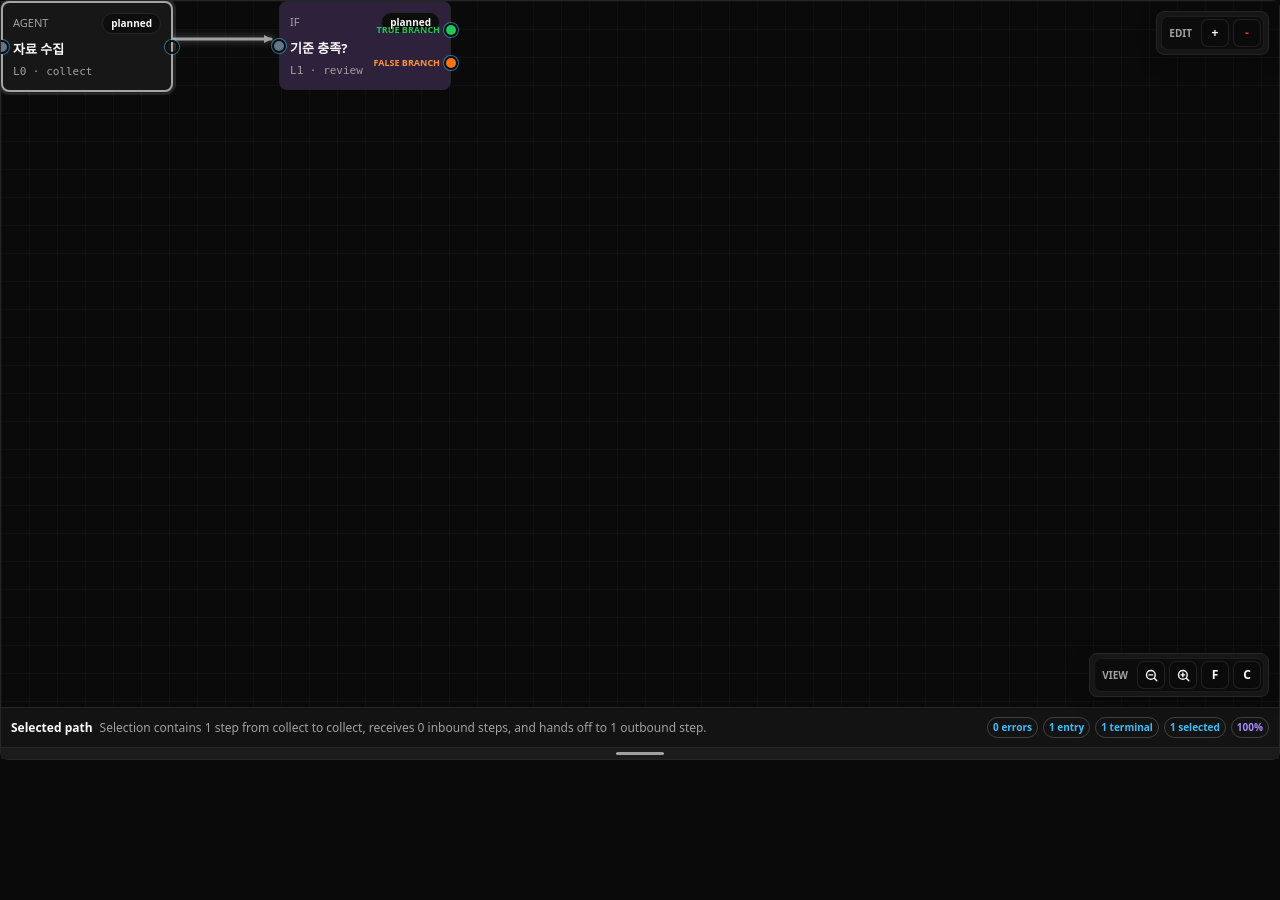
Test: WorkflowGraphEditor details popup › opens on node double-click with the selected step identity and inspector body
This screenshot has width=1280, height=900.
Click the button "if planned 기준 충족? L1 · review".
click(365, 46)  # box [279,1,451,90]
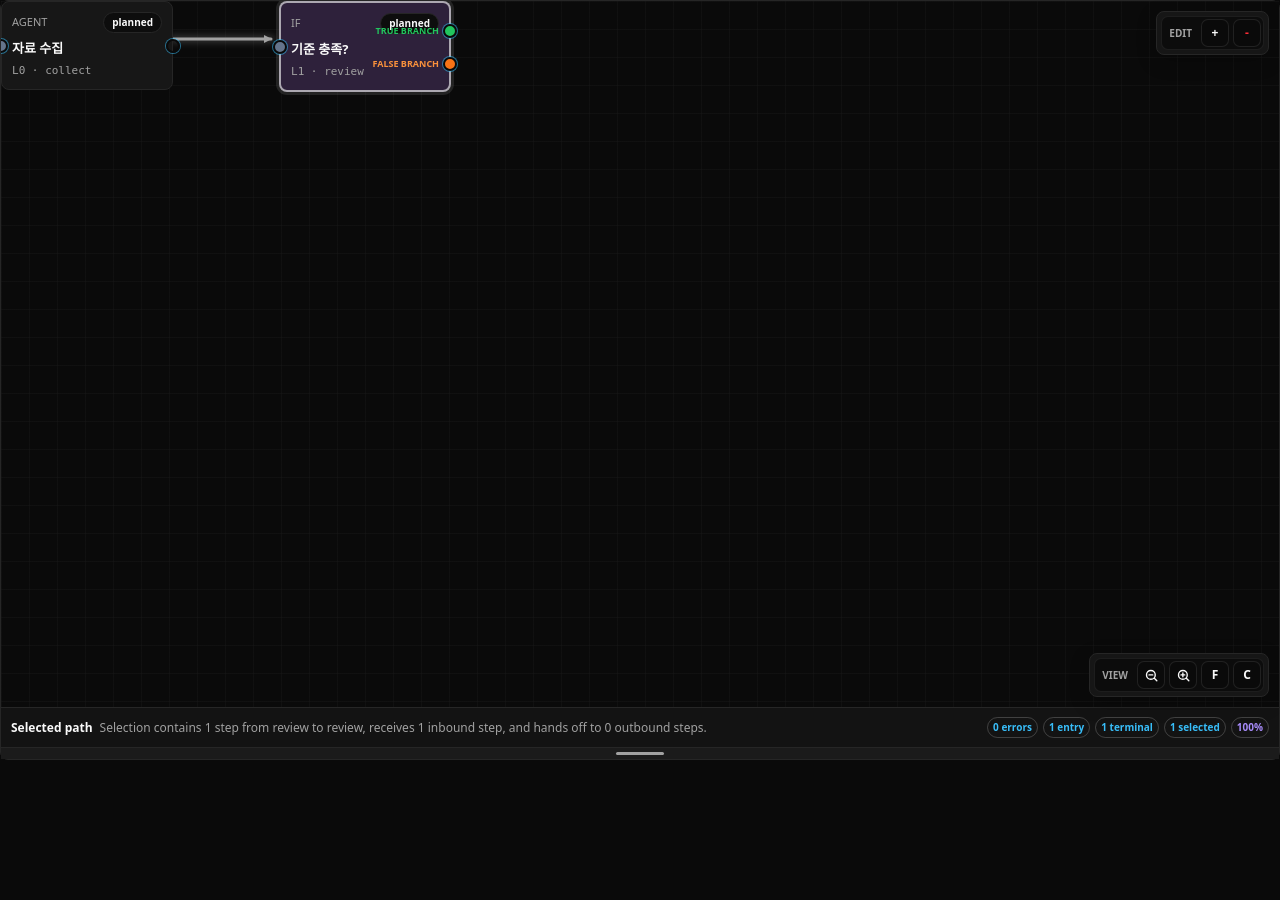
Double-click the button "if planned 기준 충족? L1 · review".
double_click(365, 46)  # box [279,1,451,92]
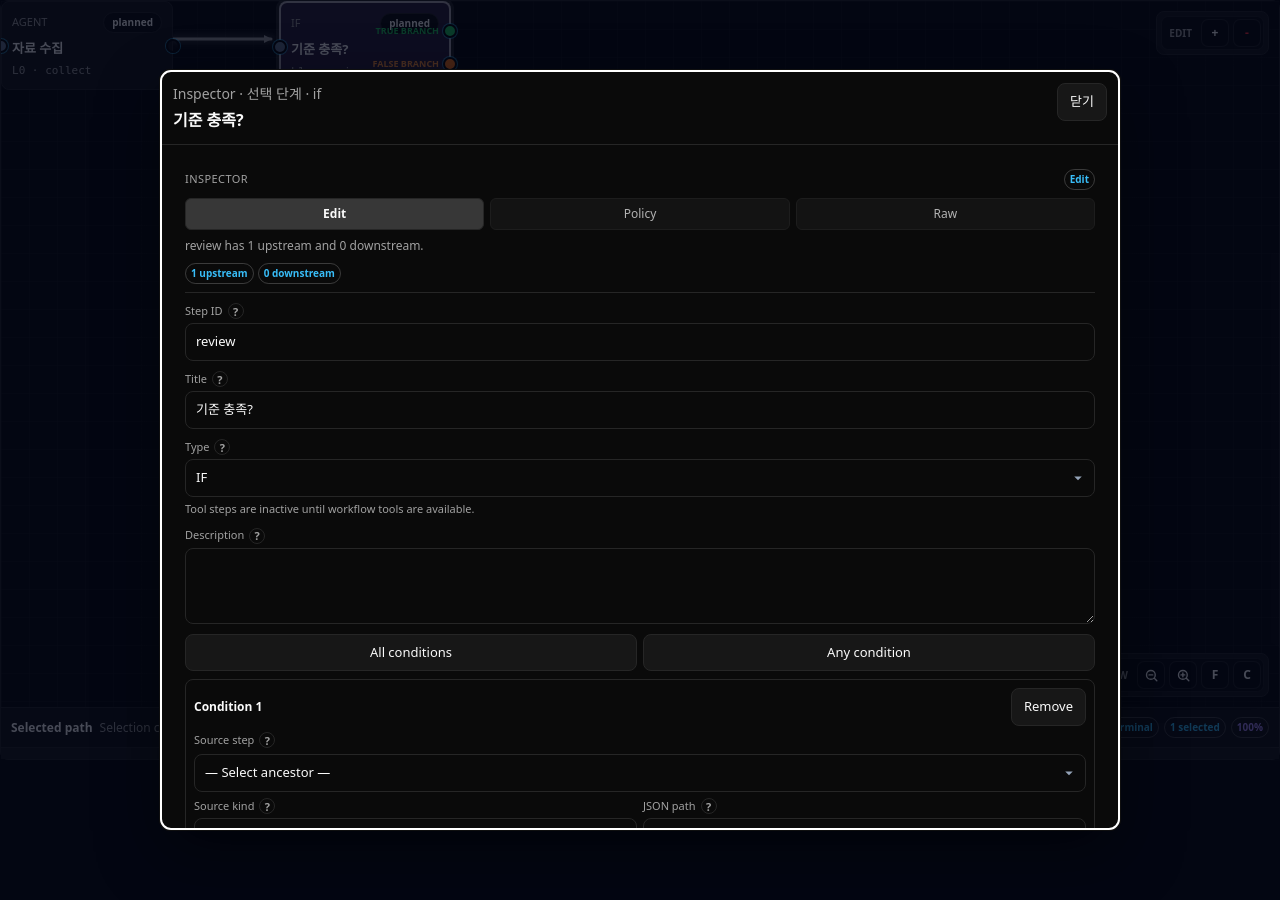
Now the dialog is shown
Now the dialog shows "기준 충족?", box [173,109,244,131]
Now the dialog shows "if", box [247,84,321,103]
